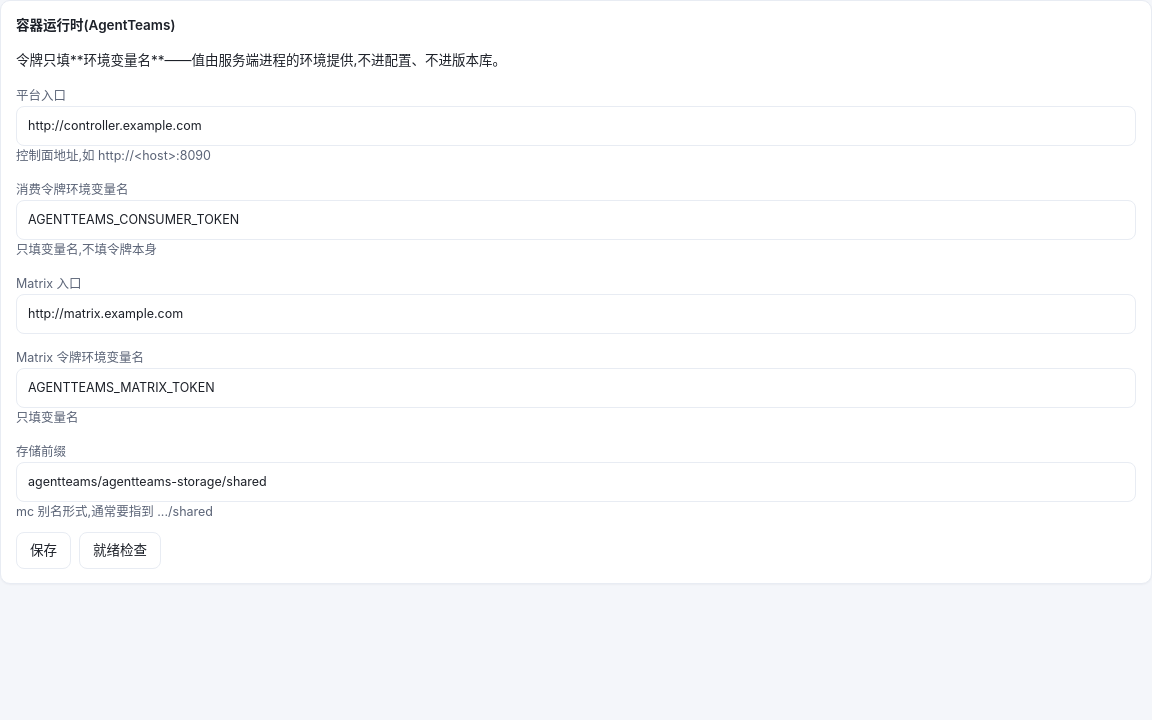
Test: ContainerRuntimeCard › 就绪检查本身失败时说清楚,而不是留一个空结果
Click the button "就绪检查". click: [120, 550]
box: 79,532 -> 161,569
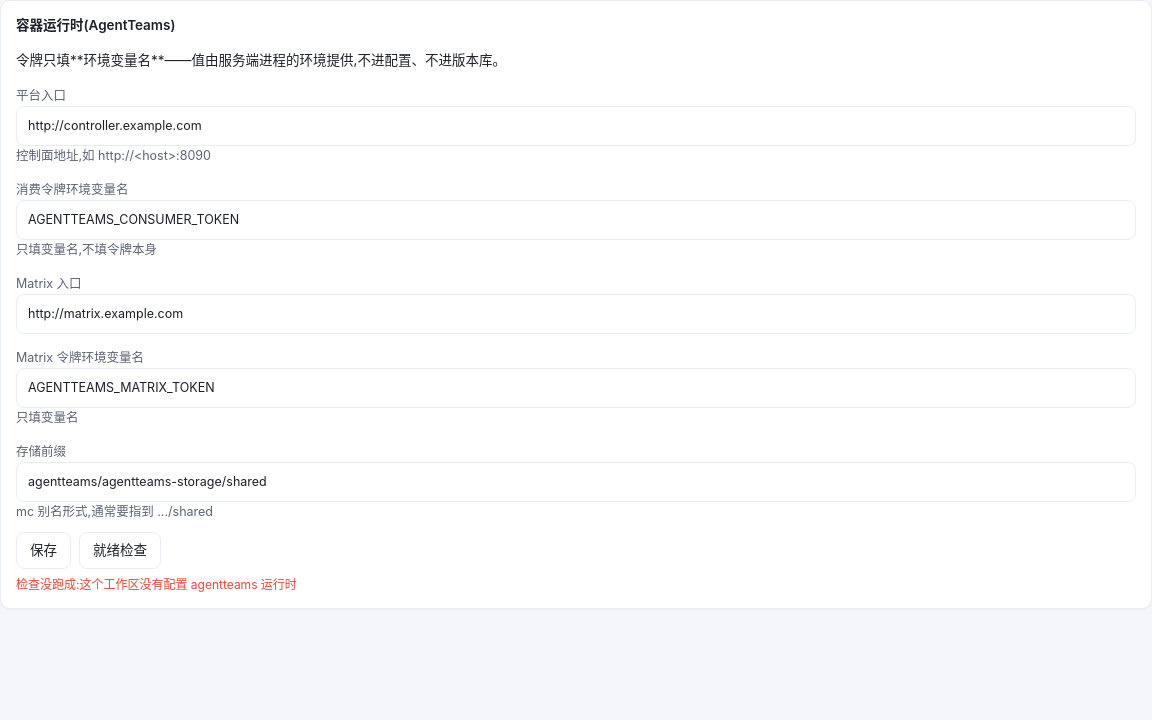
Expected: the text "检查没跑成:这个工作区没有配置 agentteams 运行时" is shown, 16,577 -> 297,592
